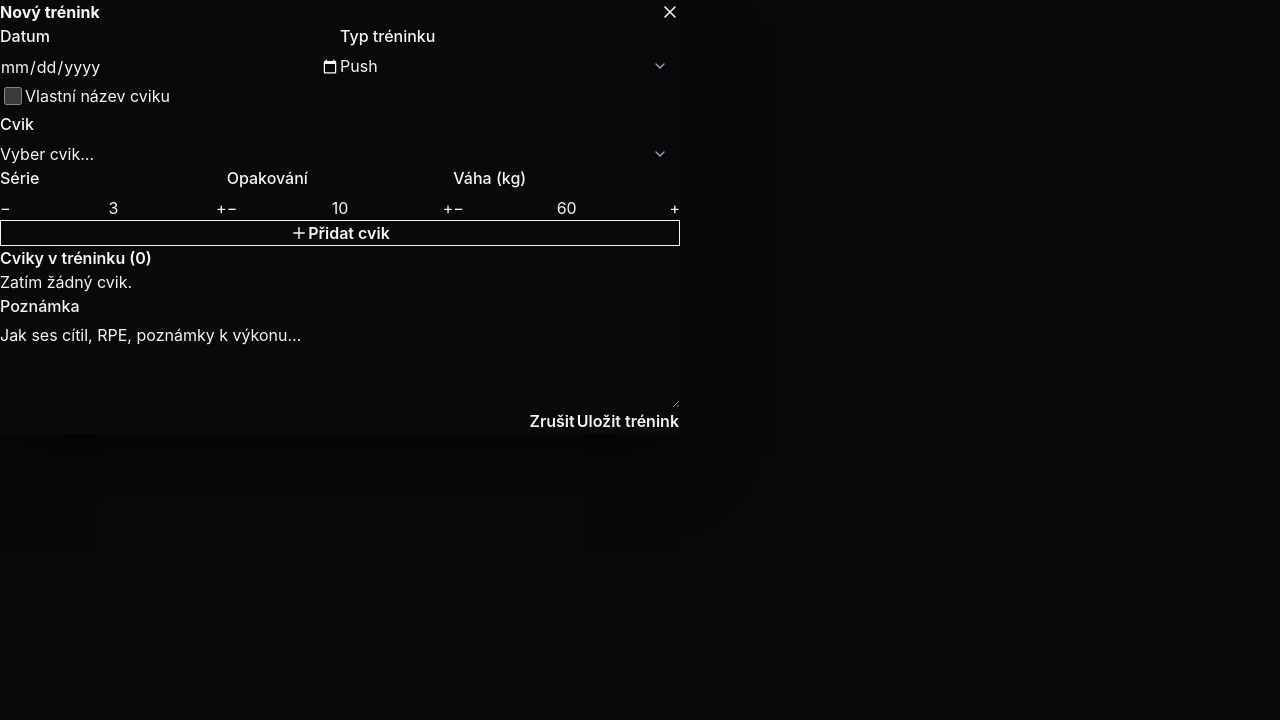
Test case: WorkoutForm › shows an error instead of adding an exercise without a name
Click the button "Přidat cvik" at (340, 233), box left=0, top=220, right=680, bottom=246
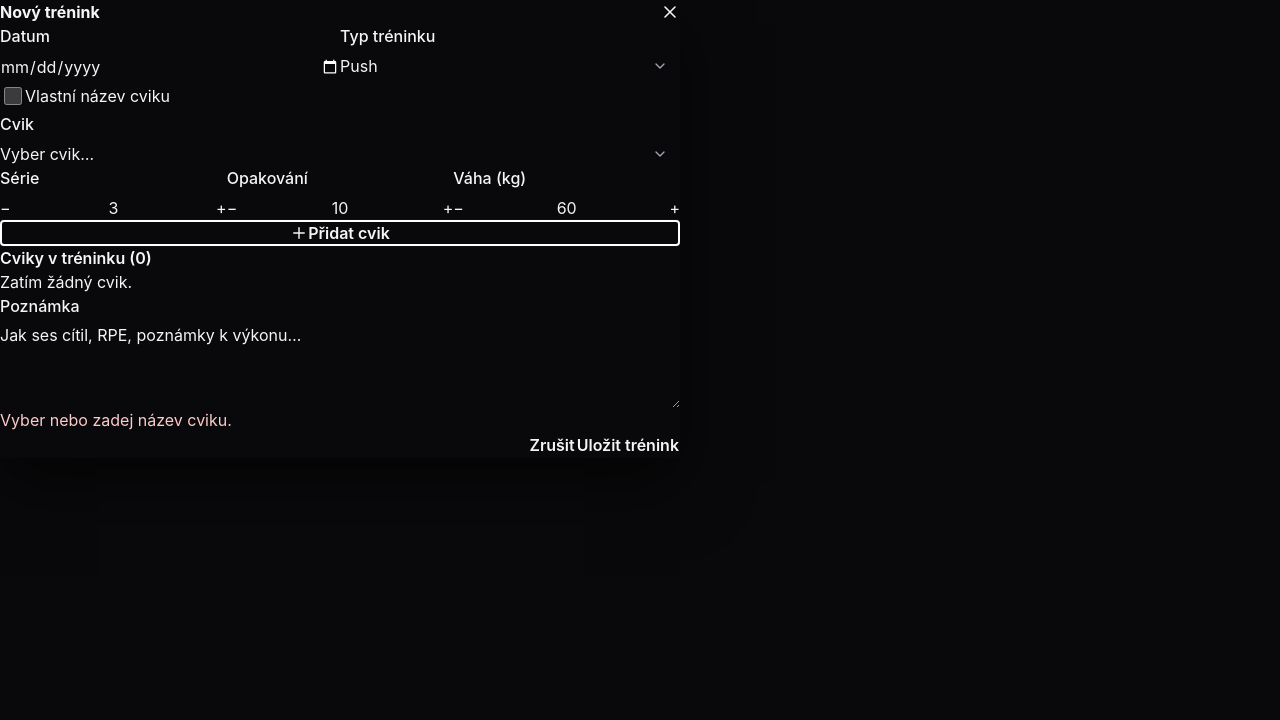
Expected: the heading "Cviky v tréninku (0)" is shown, left=0, top=248, right=152, bottom=268
Result: the message shows "název cviku" at left=0, top=410, right=232, bottom=430
